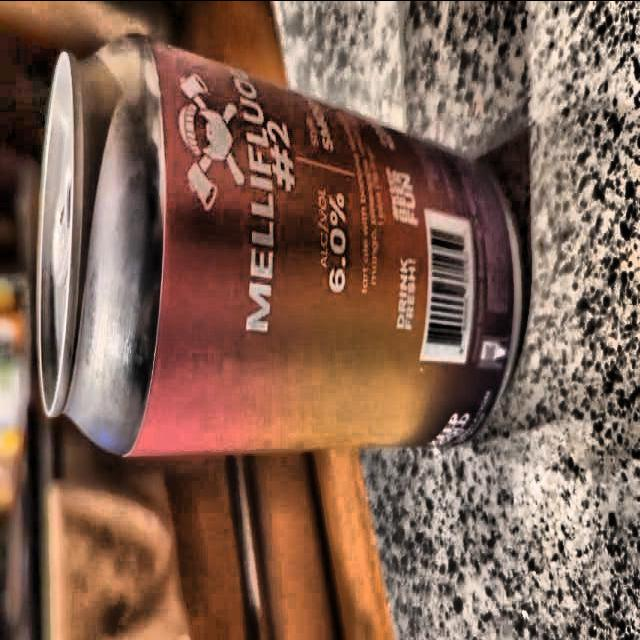Aluminum Can: (25, 22, 525, 465)
